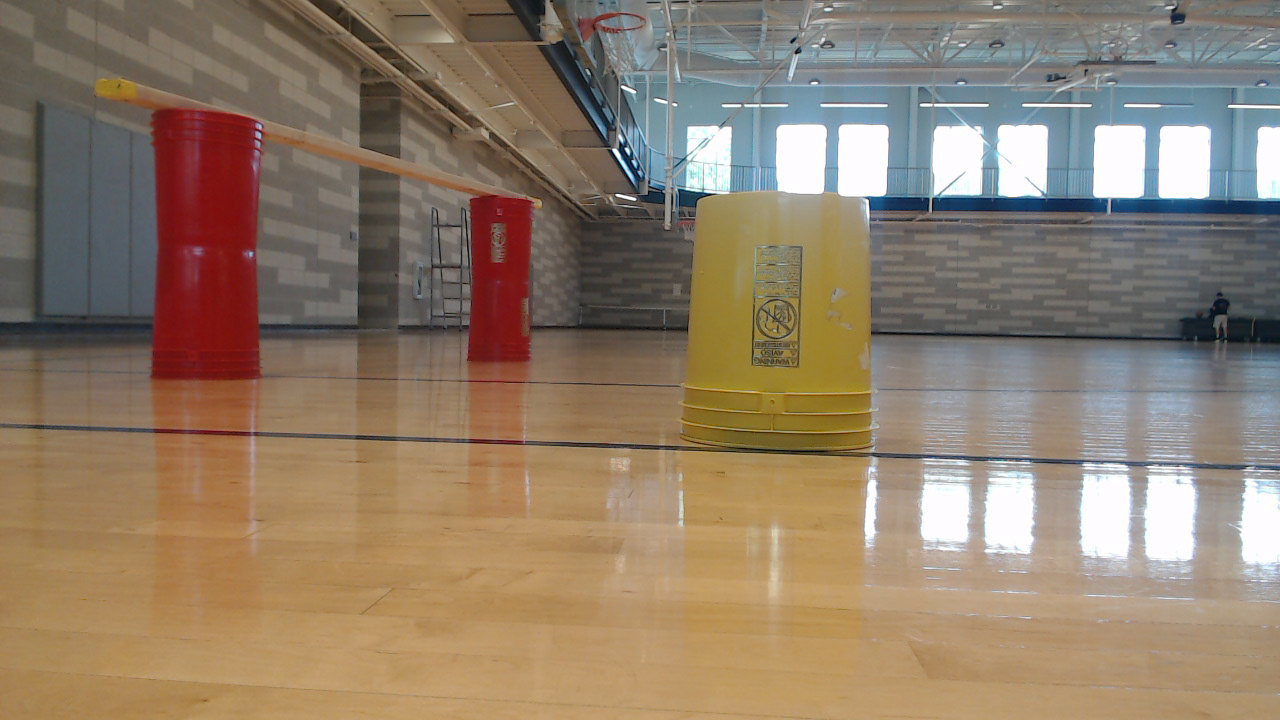red_bucket_arch: (147, 93, 546, 392)
yellow_bucket: (681, 192, 890, 463)
